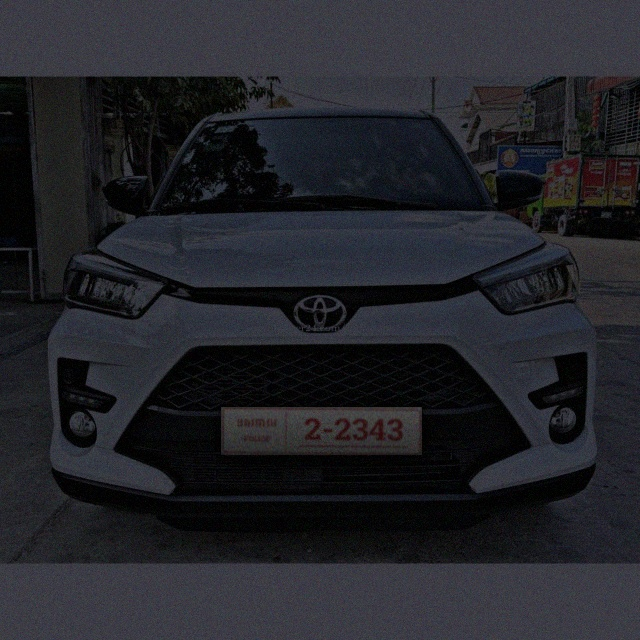Plate Number: (222, 408, 422, 456)
